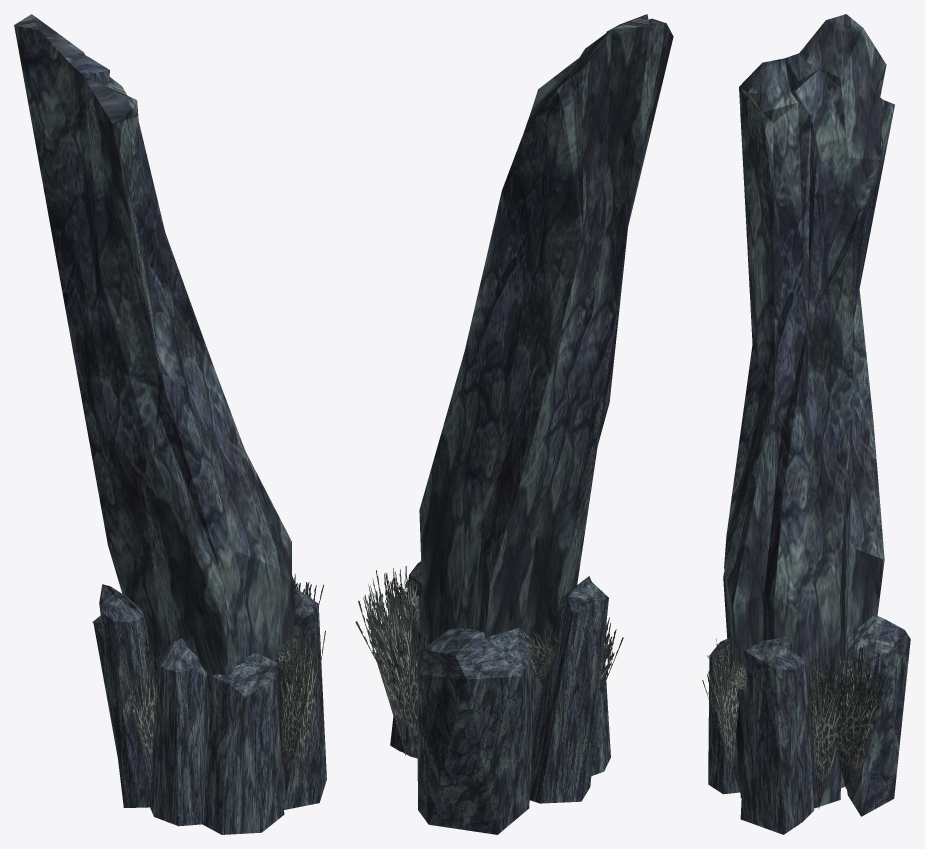
Rendered from C4SNLARGEROCKC.obj.
3 views of the same model, side by side, from view 1: azimuth 30°, elevation 25°; view 2: azimuth 150°, elevation 25°; view 3: azimuth 270°, elevation 25° (orthographic). The views are drawn at different scales.
Visible parts, largest first — view 1: Node 0; view 2: Node 0; view 3: Node 0.
Part boxes in pixels (box(x1,y1,x2,y2)): Node 0: box(14, 14, 326, 834); Node 0: box(355, 14, 673, 834); Node 0: box(702, 14, 910, 834).
Size of the model in its own units: 13.79 by 36.93 by 9.83.
Materials: 2 (2 with a texture image).
